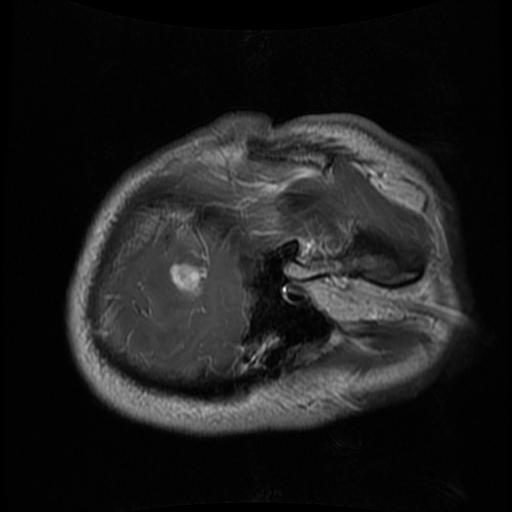glioma: (169, 265, 200, 295)
